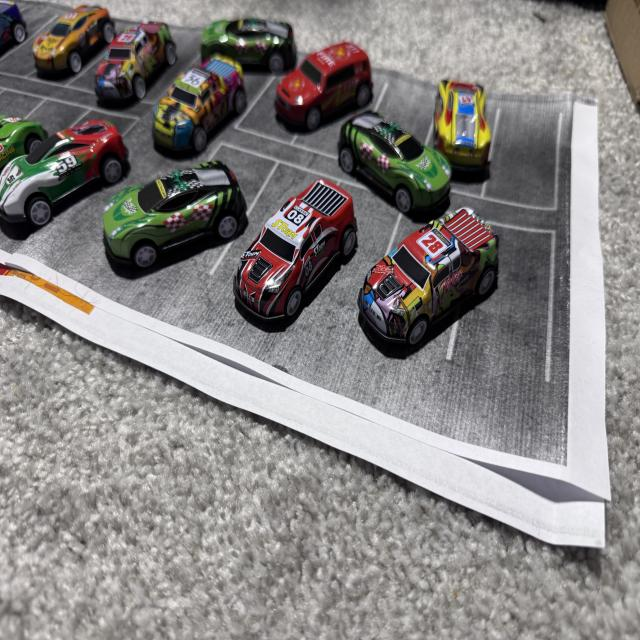Car: (263, 166, 385, 336), (97, 167, 260, 260), (384, 194, 481, 350), (422, 54, 514, 213), (316, 99, 442, 207), (206, 0, 340, 96), (6, 105, 101, 235), (149, 49, 247, 157), (6, 0, 104, 106), (303, 51, 387, 151), (100, 13, 188, 104)
